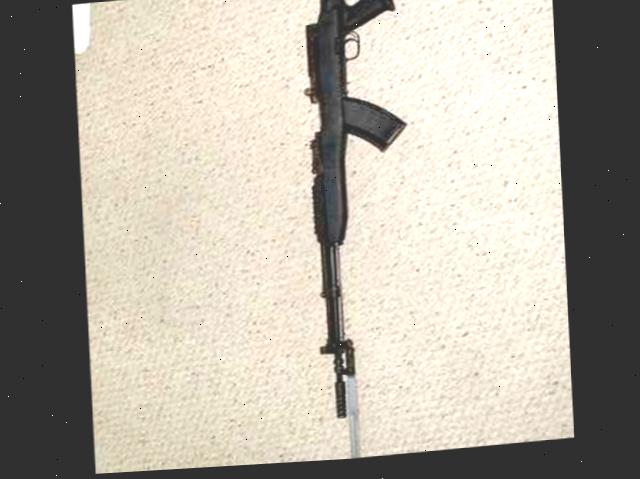rifle: (278, 0, 463, 443)
